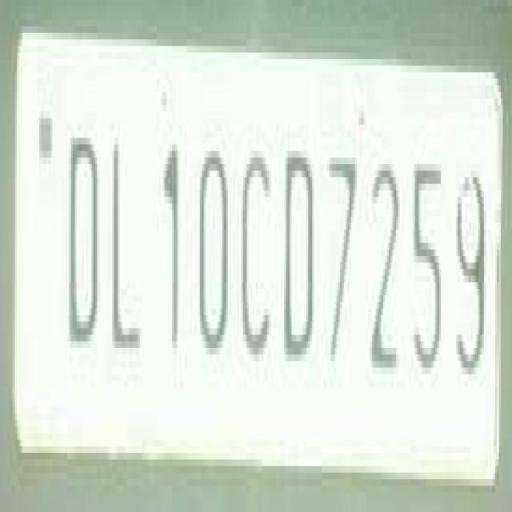number plate: (2, 1, 486, 500)
